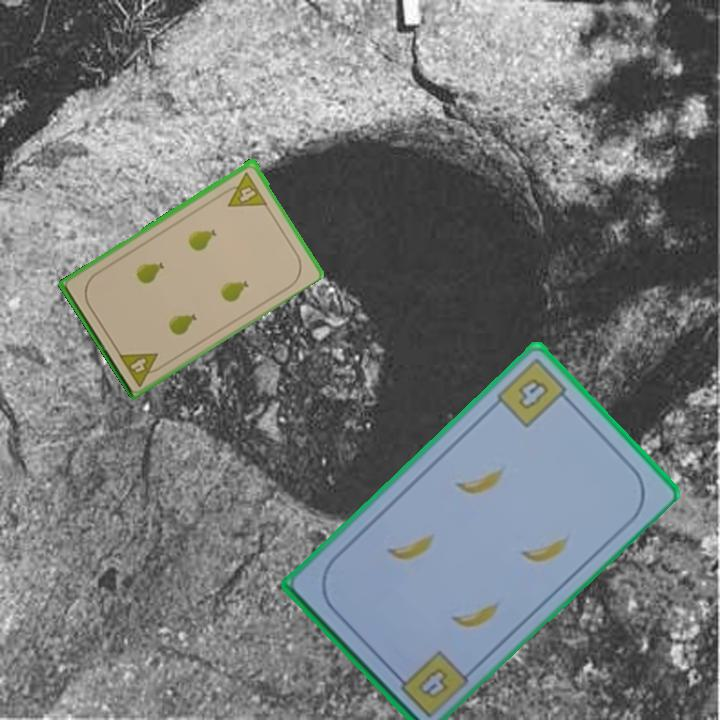4b: (492, 353, 575, 431), (413, 663, 451, 702)
4p: (218, 168, 269, 210), (115, 349, 168, 389)
